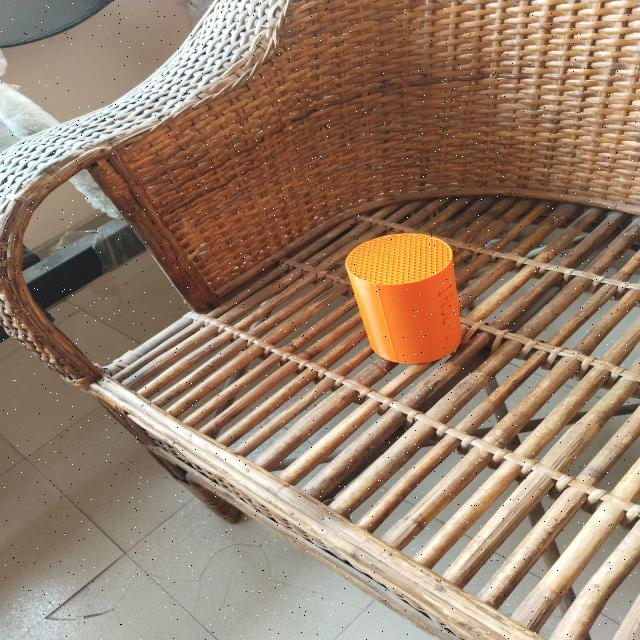Cylinder: (343, 232, 463, 364)
